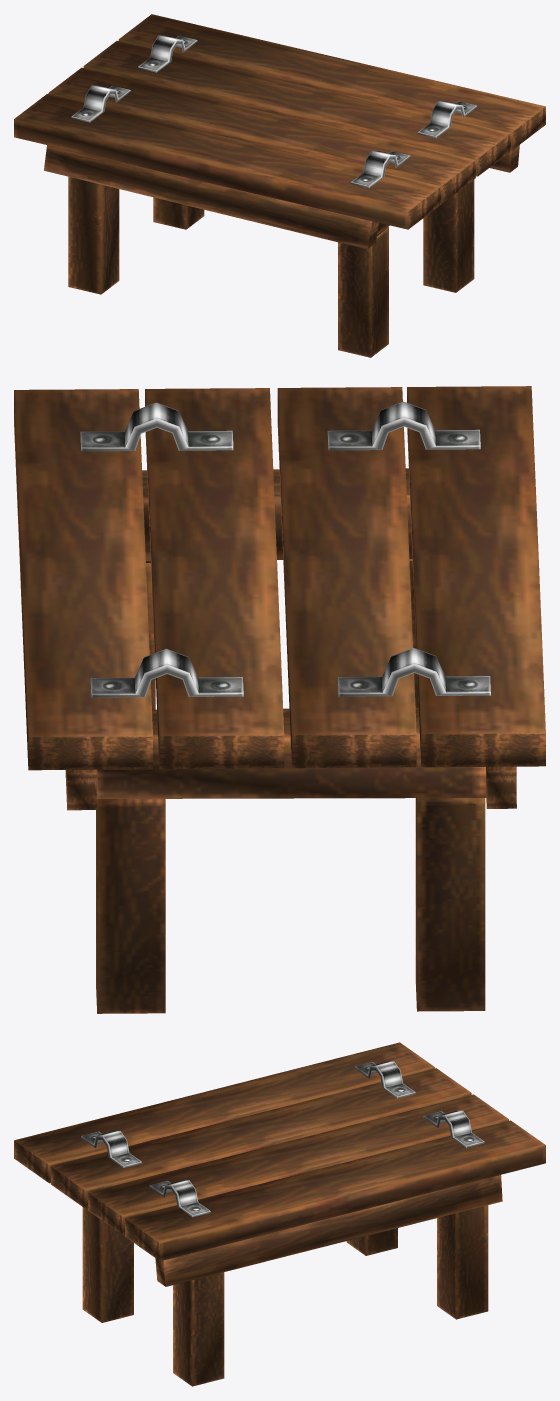
Rendered from SWORDLIGHT20_INST_TORTTABLE_LOD1_01.fbx.
3 views of the same model, one above another, from view 1: azimuth 30°, elevation 25°; view 2: azimuth 150°, elevation 25°; view 3: azimuth 270°, elevation 25° (orthographic). The views are drawn at different scales.
Visible parts, largest first — view 1: SWORDLIGHT20_INST_TORTTABLE_LOD1_01; view 2: SWORDLIGHT20_INST_TORTTABLE_LOD1_01; view 3: SWORDLIGHT20_INST_TORTTABLE_LOD1_01.
Boxes of the visible parts, box(x1,y1,x2,y2) form: SWORDLIGHT20_INST_TORTTABLE_LOD1_01: box(14, 14, 545, 357); SWORDLIGHT20_INST_TORTTABLE_LOD1_01: box(14, 386, 545, 1013); SWORDLIGHT20_INST_TORTTABLE_LOD1_01: box(14, 1042, 545, 1386).
Size of the model in its own units: 20464 by 8945 by 22917.
Materials: 3 (3 with a texture image).
